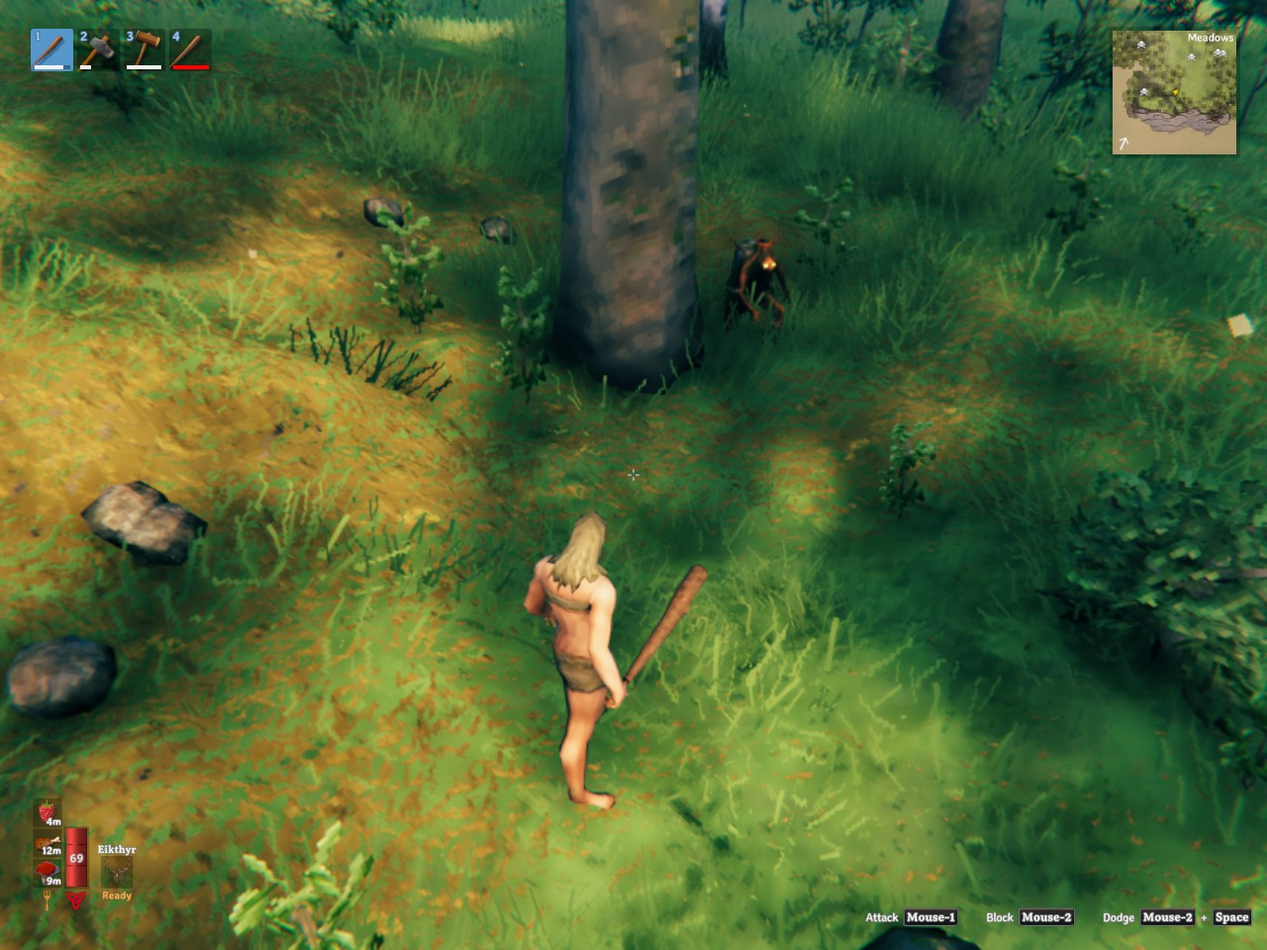Club: (625, 564, 707, 683)
Food Indicator: (36, 797, 63, 891)
Greyling: (725, 238, 788, 330)
Health Bar: (63, 820, 90, 891)
Hotbar: (25, 21, 398, 78)
Stone: (81, 481, 207, 564), (7, 636, 116, 718), (363, 198, 404, 226), (480, 217, 515, 244)
